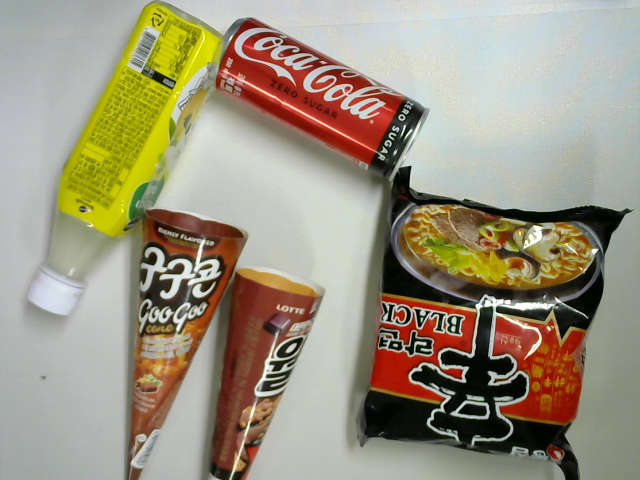Coca_Cola_Zero_Can_250ml: (208, 17, 430, 182)
GooGoo_Cone_CVS: (128, 209, 247, 480)
Sinramen_Black: (358, 166, 634, 480)
Sunkist_Lemonaid_Pet: (25, 1, 231, 320)
World_Cone_Choco: (206, 265, 326, 480)
